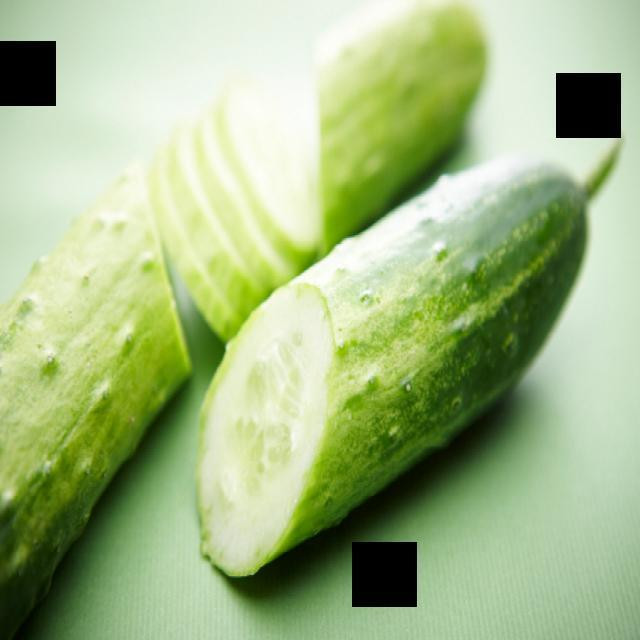cucumber: (190, 144, 596, 598)
